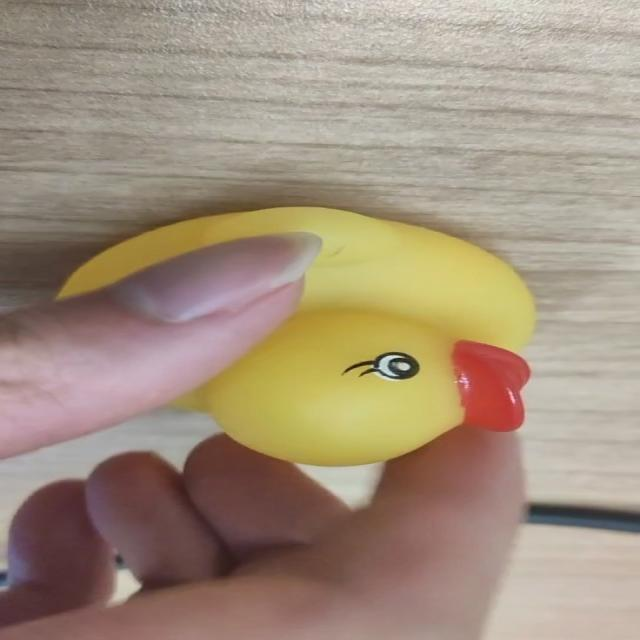rubber-duck: (58, 206, 533, 463)
